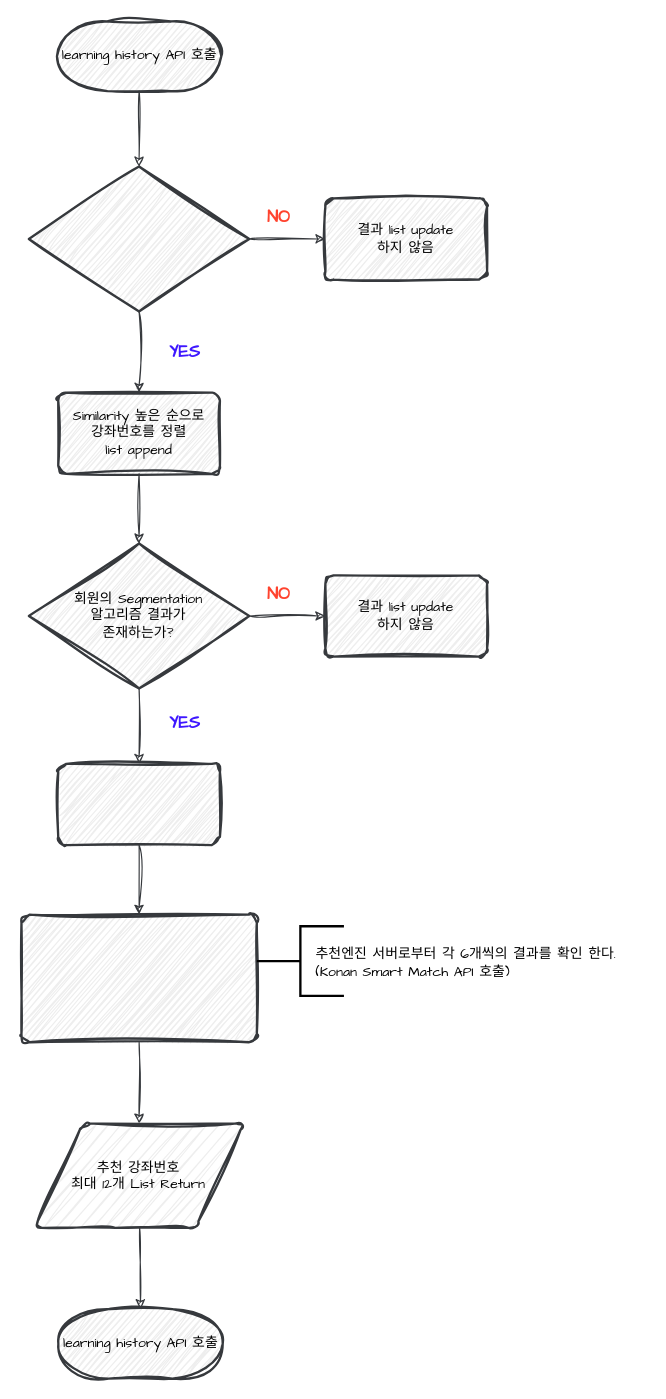
This 666x1399 diagram has some shape labels left out. The shapes that lost their labels are listed below. From the top down, each one's centre as x and y in pixels, then its label:
At point 138,238: "회원의 CF-User-Based 알고리즘 결과가 존재하는가?".
At point 138,804: "seg count 높은 순으로 강좌번호를 정렬 하여 list append".
At point 138,978: "CF-User-Based 강좌번호 6개 추출, Segmentation 강좌번호 6개 추출".
